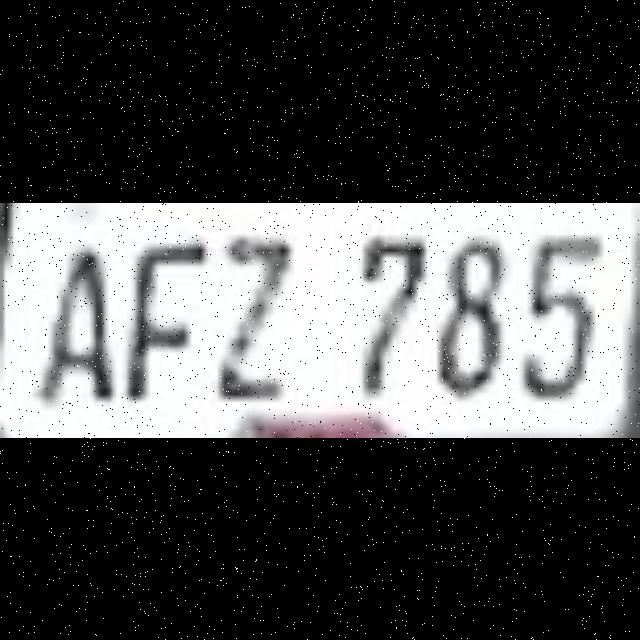5: (520, 227, 616, 417)
7: (328, 227, 424, 417)
8: (426, 227, 520, 417)
A: (42, 227, 136, 417)
F: (138, 227, 234, 417)
Z: (224, 228, 320, 418)
